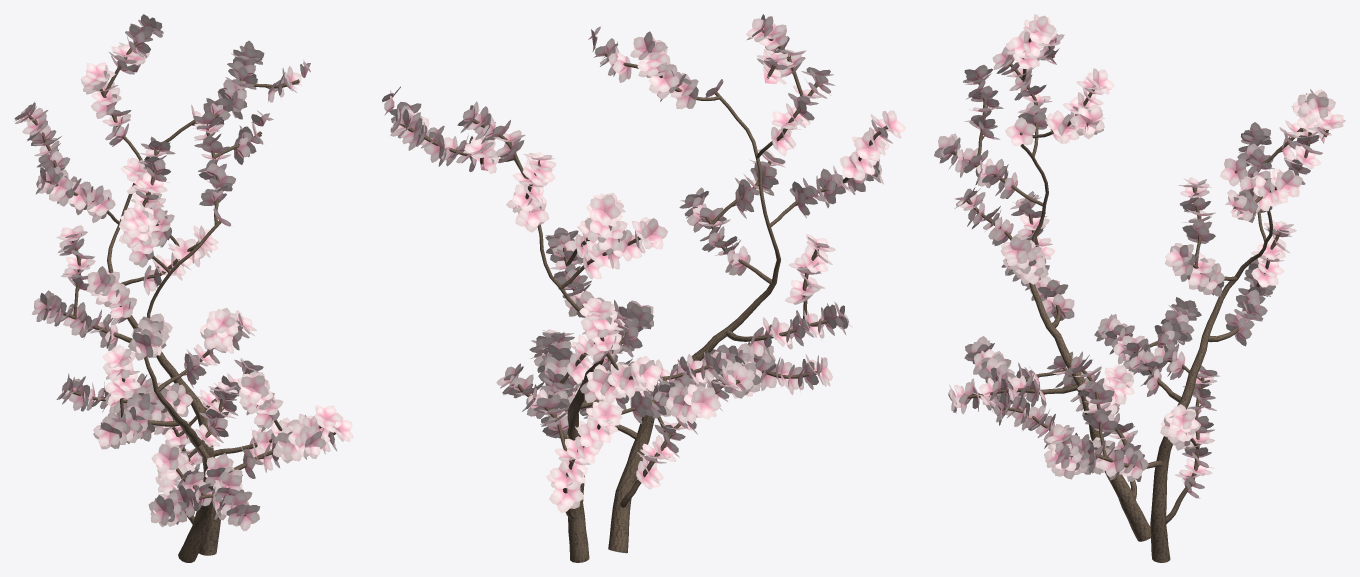
The picture shows the model from 3 angles, left to right: view 1: azimuth 30°, elevation 25°; view 2: azimuth 150°, elevation 25°; view 3: azimuth 270°, elevation 25°; orthographic projection. The views are drawn at different scales.
Visible parts, largest first — view 1: QD-桃花; view 2: QD-桃花; view 3: QD-桃花.
Boxes of the visible parts, x1,y1,x2,y2 form: QD-桃花: (14,14,353,562); QD-桃花: (382,14,905,562); QD-桃花: (934,14,1345,562).
Size of the model in its own units: 0.3993 by 0.4032 by 0.5275.
